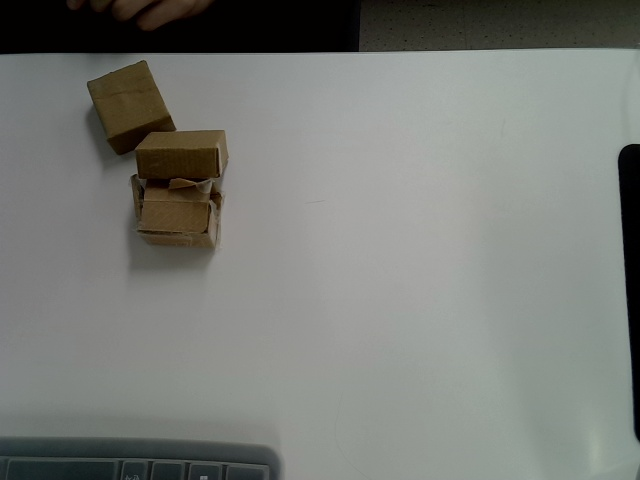defect: (131, 177, 224, 248)
normal: (87, 60, 175, 155), (136, 130, 231, 179)
